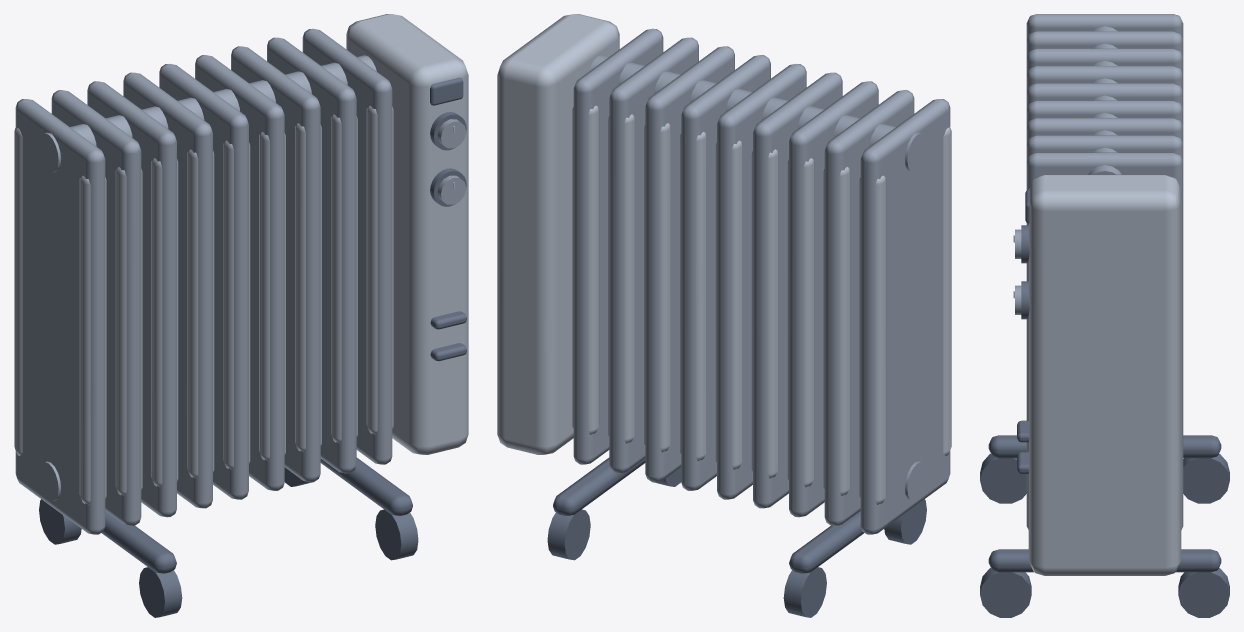
File: heater-lite.glb
3 views of the same model, side by side, from view 1: azimuth 30°, elevation 25°; view 2: azimuth 150°, elevation 25°; view 3: azimuth 270°, elevation 25° (orthographic).
Parts seen in each view (by area): view 1: heater; view 2: heater; view 3: heater.
Boxes of the visible parts, x1,y1,x2,y2 form: heater: (14,14,468,617); heater: (497,14,951,617); heater: (980,14,1229,617).
Size of the model in its own units: 0.515 by 0.59 by 0.29.
